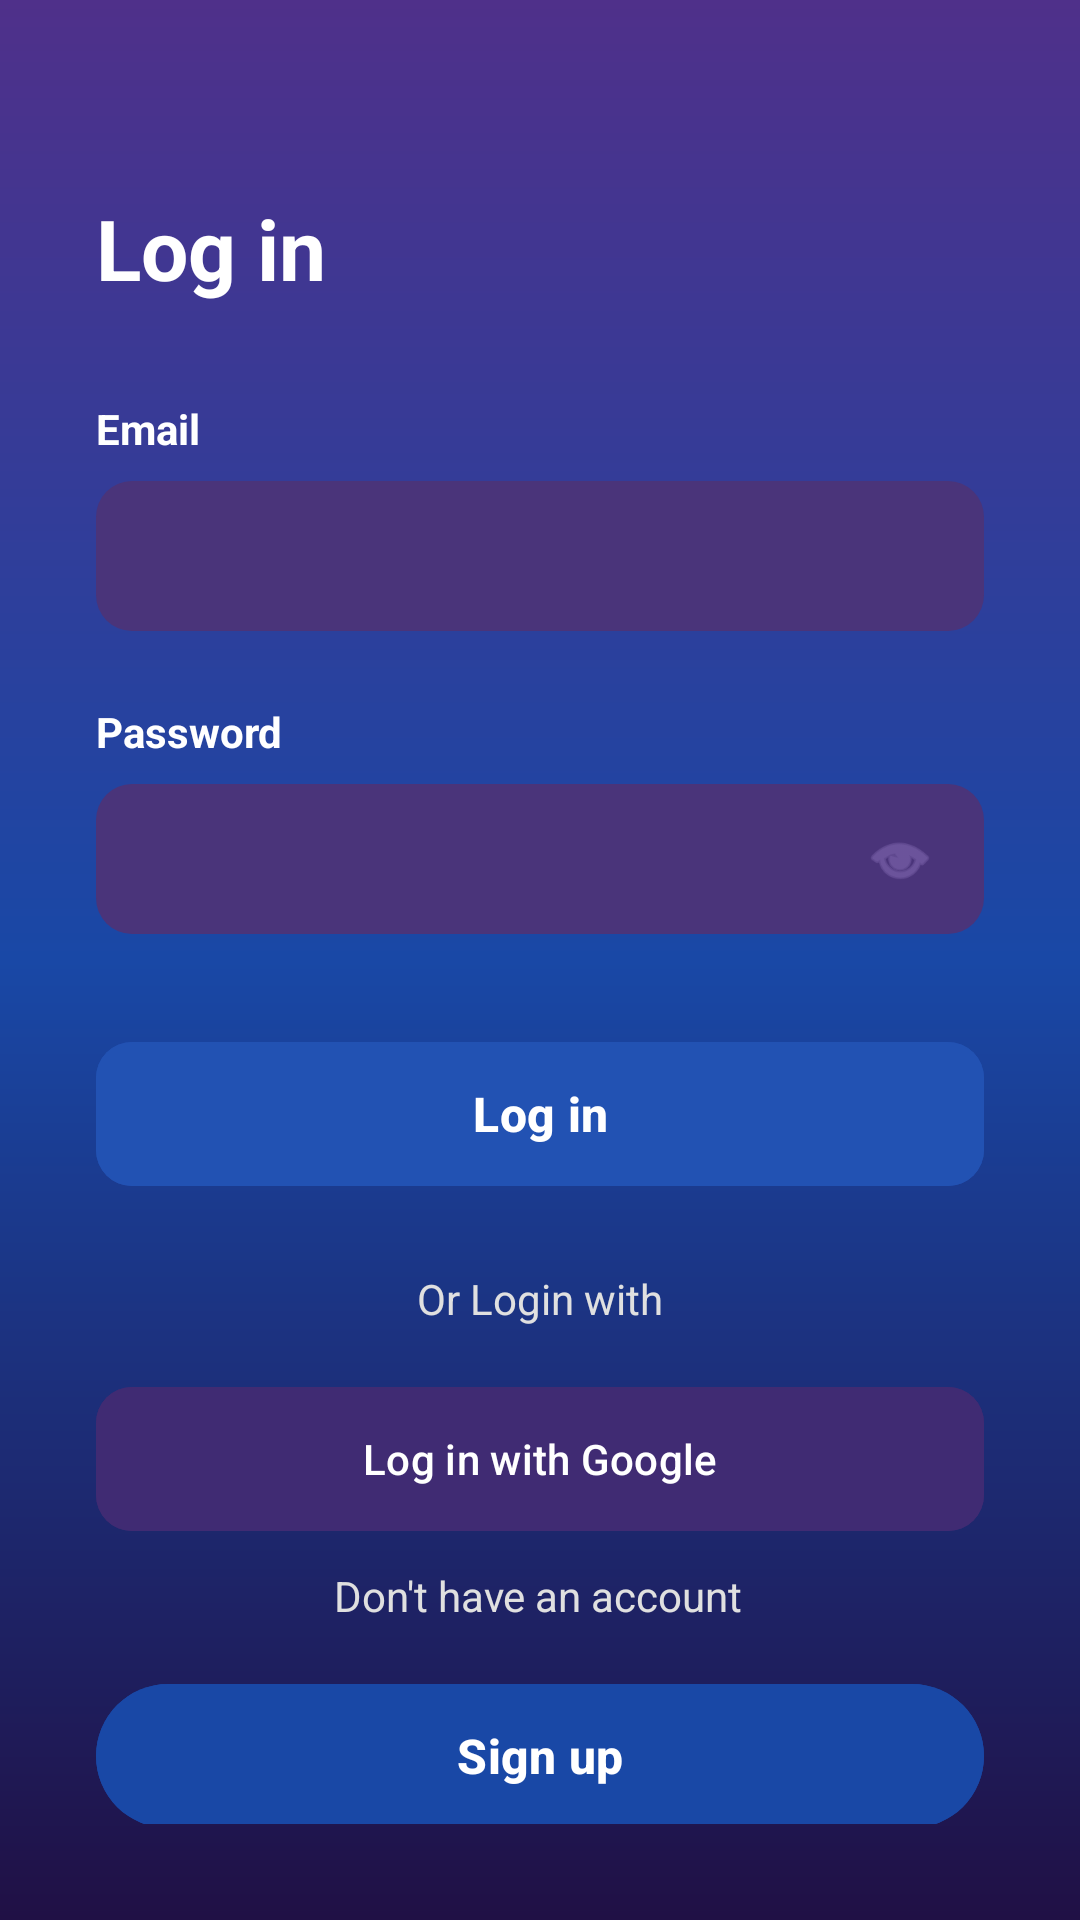

Named icons in this screenshot (1080px×1920px) and their bounding boxes, (x1, y1, x2, y2):
view: (872, 844, 928, 878)
